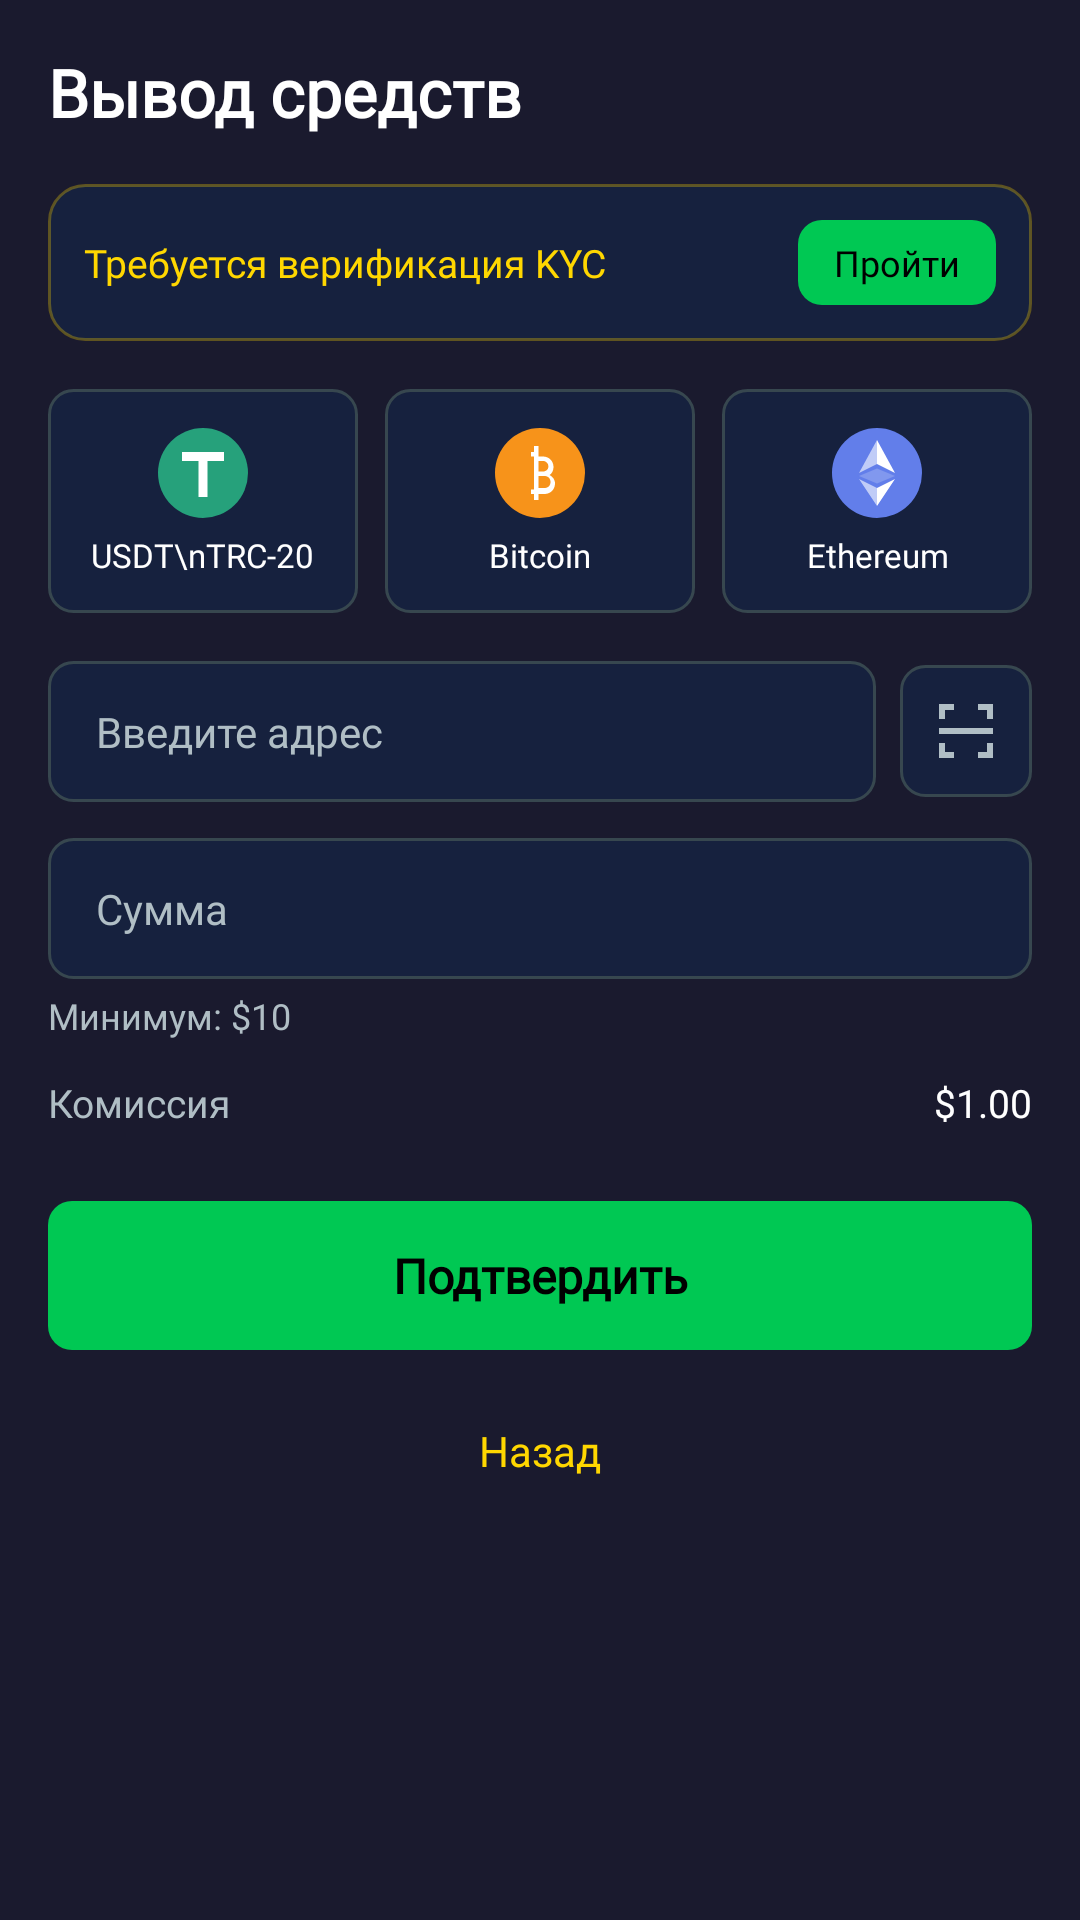

Screen size 1080w x 1920h. Icon name, then its center in pixels as point (x, y):
Сканировать QR: point (966, 731)
